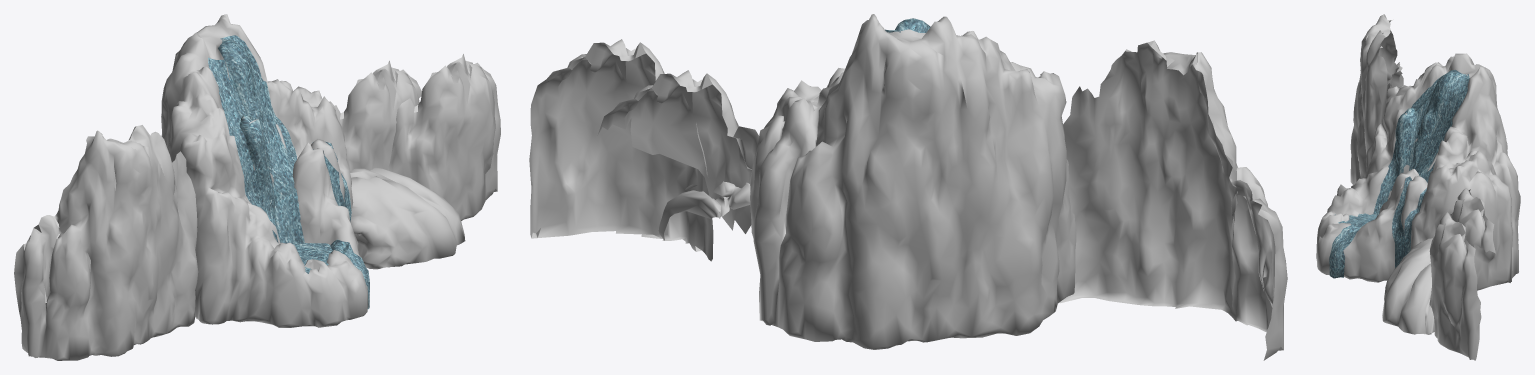
File: Waterfall_v2.FBX
3 views of the same model, side by side, from view 1: azimuth 30°, elevation 25°; view 2: azimuth 150°, elevation 25°; view 3: azimuth 270°, elevation 25° (orthographic). The views are drawn at different scales.
Parts seen in each view (by area): view 1: Object3, Object006, Object005, Object011, Object004, Shape001, Shape002, Object015, Object007, Object016, Plane001, Object013 (+1 smaller); view 2: Object3, Object006, Object005, Object004, Object011; view 3: Object3, Object005, Object006, Object011, Object004, Shape001, Object007, Object015, Shape002, Object013, Object012, Object017 (+2 smaller).
Part boxes in pixels (x1=…): Object3: x1=161, y1=14, x2=368, y2=327; Object006: x1=14, y1=125, x2=198, y2=360; Object005: x1=388, y1=54, x2=500, y2=220; Object011: x1=350, y1=167, x2=465, y2=269; Object004: x1=334, y1=60, x2=421, y2=171; Shape001: x1=220, y1=35, x2=304, y2=243; Shape002: x1=208, y1=57, x2=278, y2=242; Object015: x1=239, y1=115, x2=281, y2=242; Object007: x1=218, y1=39, x2=272, y2=175; Object016: x1=231, y1=83, x2=296, y2=205; Plane001: x1=293, y1=243, x2=332, y2=273; Object013: x1=330, y1=239, x2=369, y2=309; Object3: x1=750, y1=14, x2=1076, y2=349; Object006: x1=1060, y1=40, x2=1287, y2=360; Object005: x1=529, y1=39, x2=713, y2=261; Object004: x1=597, y1=70, x2=758, y2=233; Object011: x1=658, y1=181, x2=750, y2=240; Object3: x1=1316, y1=53, x2=1520, y2=290; Object005: x1=1429, y1=212, x2=1481, y2=360; Object006: x1=1350, y1=14, x2=1403, y2=184; Object011: x1=1382, y1=238, x2=1434, y2=334; Object004: x1=1451, y1=188, x2=1495, y2=253; Shape001: x1=1415, y1=74, x2=1469, y2=182; Object007: x1=1409, y1=70, x2=1466, y2=170; Object015: x1=1395, y1=108, x2=1416, y2=176; Shape002: x1=1373, y1=75, x2=1443, y2=214; Object013: x1=1329, y1=224, x2=1358, y2=278; Object012: x1=1392, y1=176, x2=1412, y2=267; Object017: x1=1403, y1=188, x2=1426, y2=256.
Bounding box in the file's own units: 1769 × 769 × 742.
